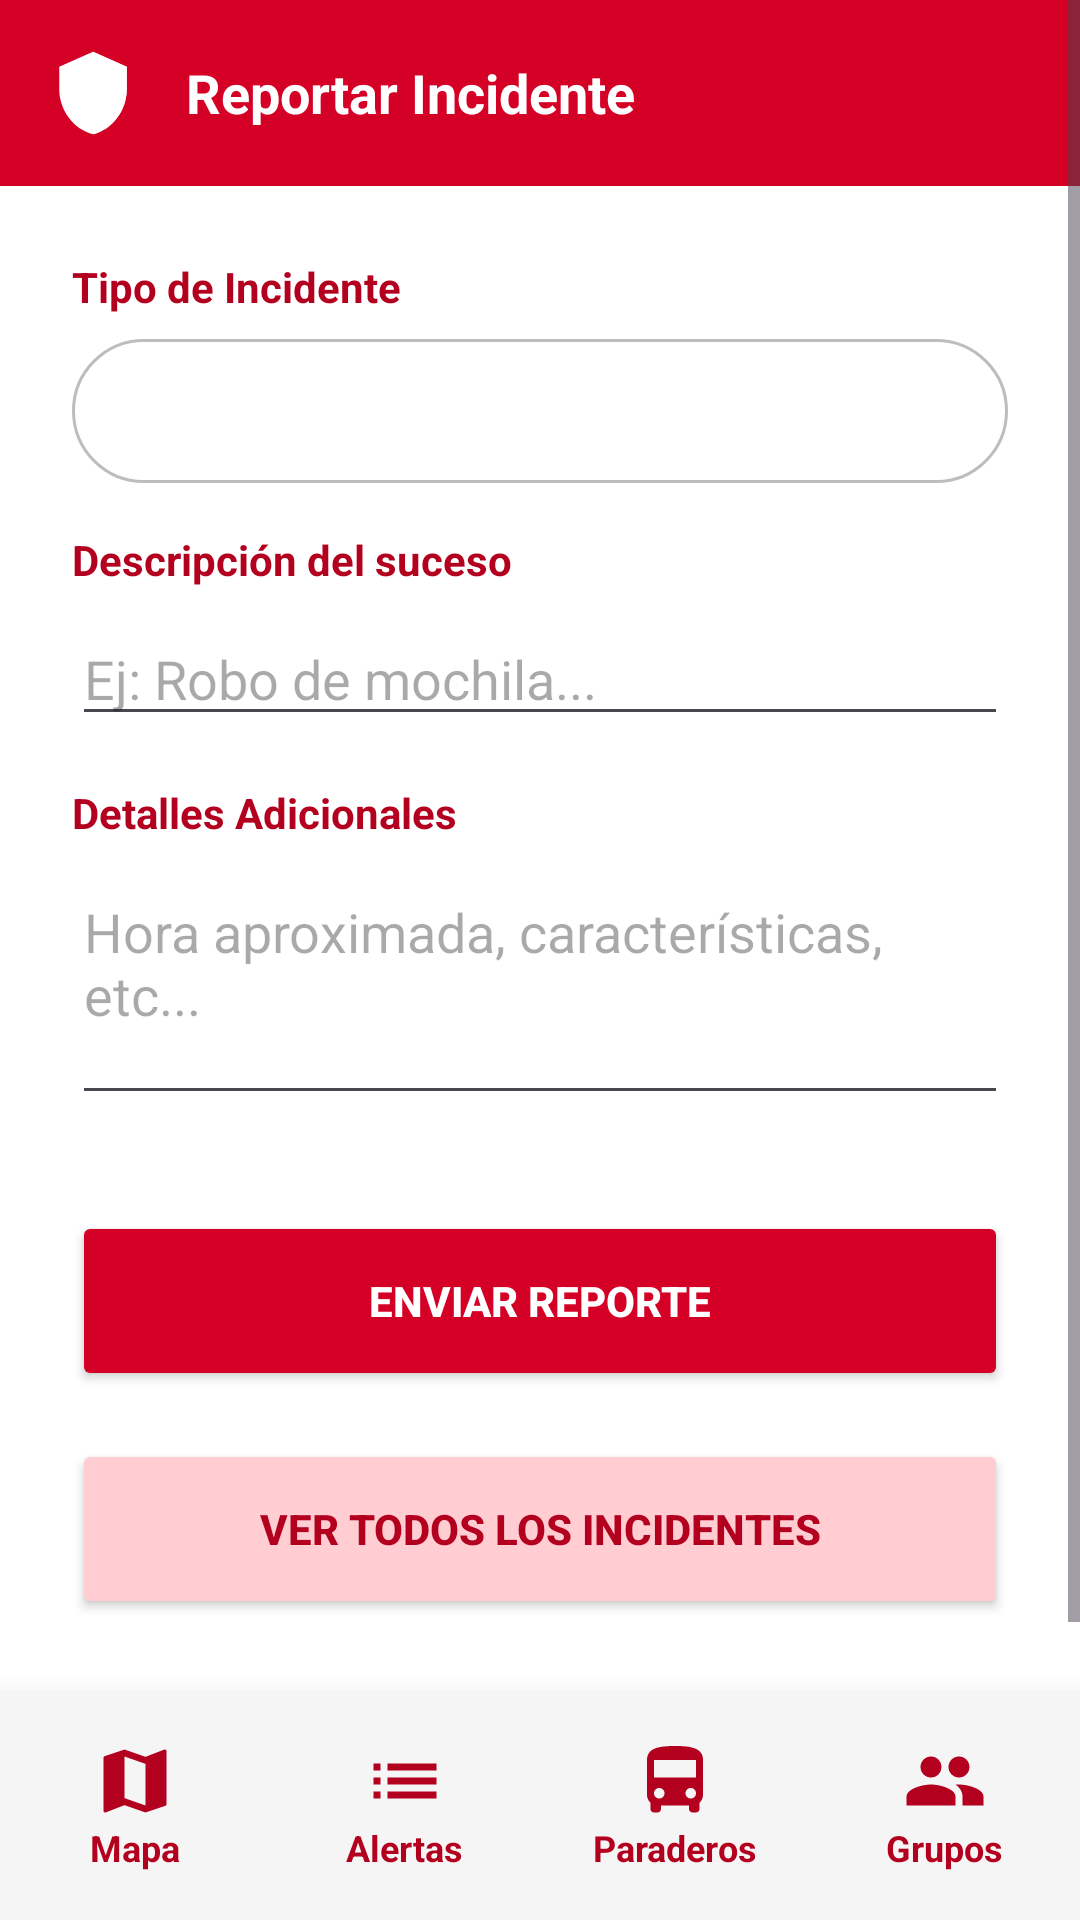

Point at icon controls on the screen. Image size 1080x1920, points as point (x, y).
bus: point (675, 1779)
list: point (405, 1781)
shield: point (93, 93)
